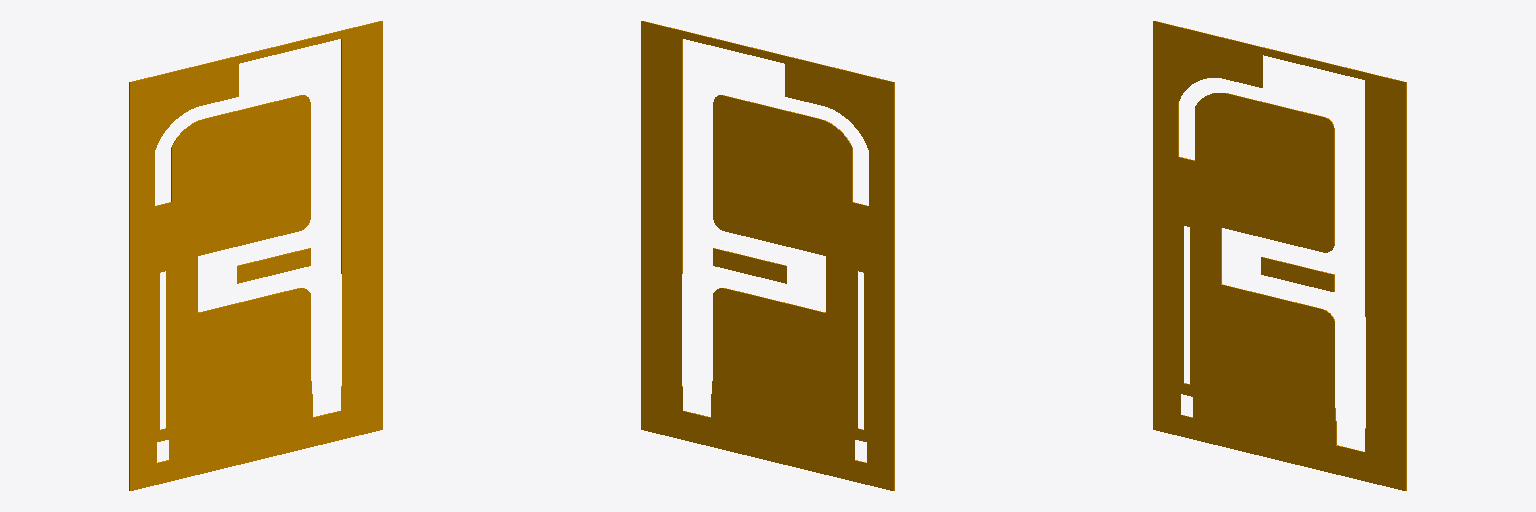
robot.urdf — track:
<?xml version="1.0" ?>
<robot name="track">
  <!--xacro:include filename="$(find track_description)/urdf/materials.xacro" /-->
  <!--xacro:include filename="$(find track_description)/urdf/track.trans" /-->
  <!--xacro:include filename="$(find track_description)/urdf/track.gazebo" /-->
  <link name="base_link">
    <inertial>
      <origin rpy="0 0 0" xyz="0.0 0.0 0.0"/>
      <mass value="0.0"/>
      <inertia ixx="0.0" ixy="0.0" ixz="0.0" iyy="0.0" iyz="0.0" izz="0.0"/>
    </inertial>
    <visual>
      <origin rpy="0 0 0" xyz="0 0 0"/>
      <geometry>
        <mesh filename="../meshes/around.dae" scale="1 1 1"/>
      </geometry>
    </visual>
    <collision>
      <origin rpy="0 0 0" xyz="0 0 0"/>
      <geometry>
        <mesh filename="../meshes/around.dae" scale="1 1 1"/>
      </geometry>
    </collision>
  </link>
</robot>

--- Render facts (derived) ---
3 views of the same robot in one strip: view 1: azimuth 30°, elevation 25°; view 2: azimuth 150°, elevation 25°; view 3: azimuth 330°, elevation 25° (orthographic).
Model track with 1 links and 0 joints (none), rooted at base_link, posed all joints at 0.
Visible links, largest first — view 1: base_link; view 2: base_link; view 3: base_link.
Boxes of the visible links, x1,y1,x2,y2 form: base_link: (129, 21, 382, 490); base_link: (641, 21, 894, 490); base_link: (1153, 21, 1406, 490).
Size in the robot's own frame: 25.53 by 0.1 by 39.44 metres.
1 mesh visuals loaded from 1 distinct referenced files (1 Collada DAE).